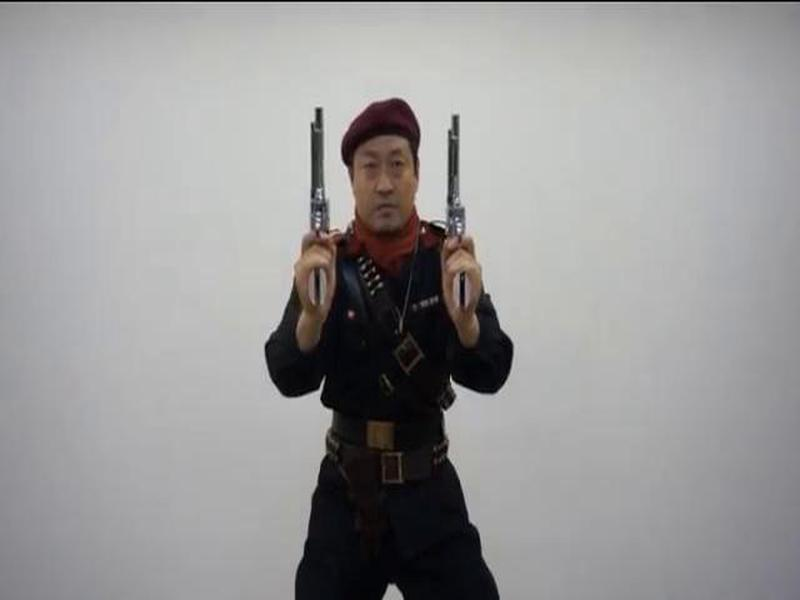Revolver: (413, 106, 506, 328), (278, 107, 357, 311)
